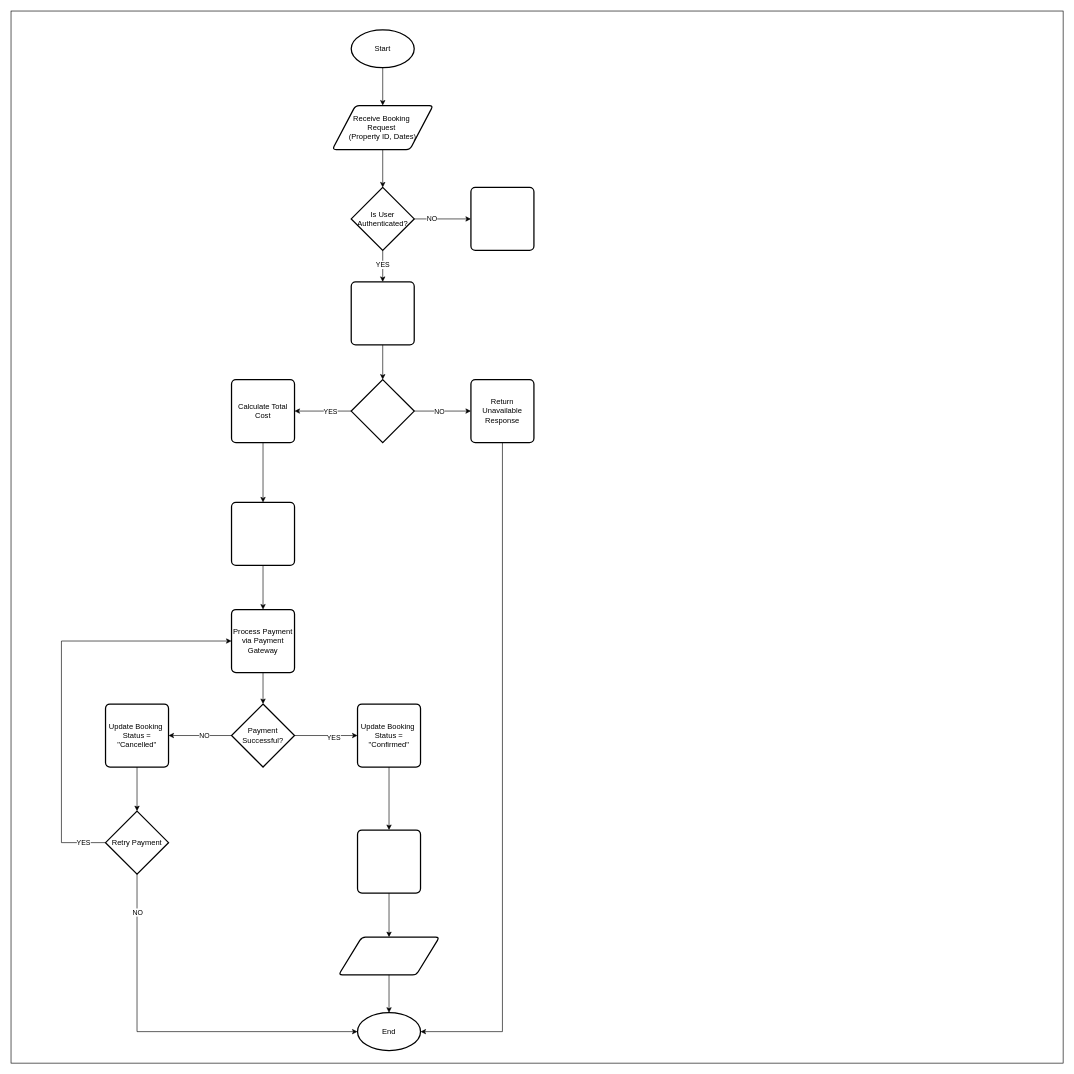
Some shapes in this 1074 by 1074 pixel diagram are drawn without their labels. The centre of each missing label's shape, as x and y in pixels:
"Check Property Availability (Property DB + Booking DB)" goes at [382,313].
"Create Pending Booking (Insert into Booking DB)" goes at [263,533].
"Is Property Available?" goes at [382,411].
"Redirect to Login" goes at [502,218].
"Return Booking Confirmation Response" goes at [389,955].
"Send Confirmation Email (via Email Service)" goes at [389,861].
